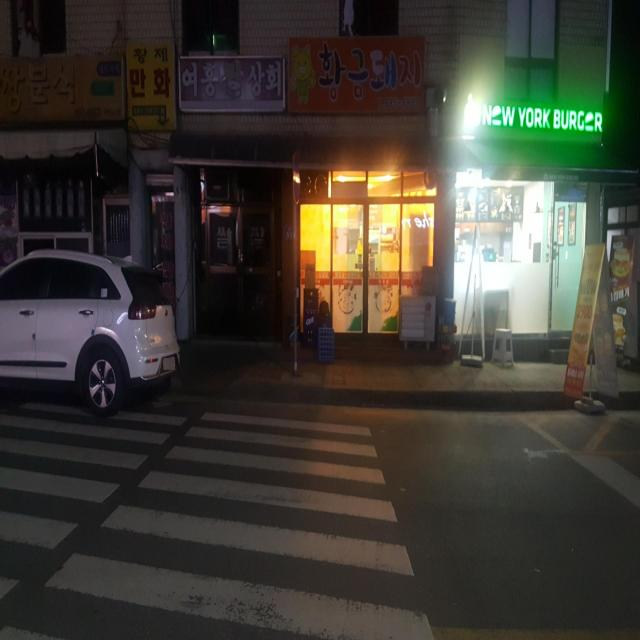횡단보도: (0, 395, 437, 640)
